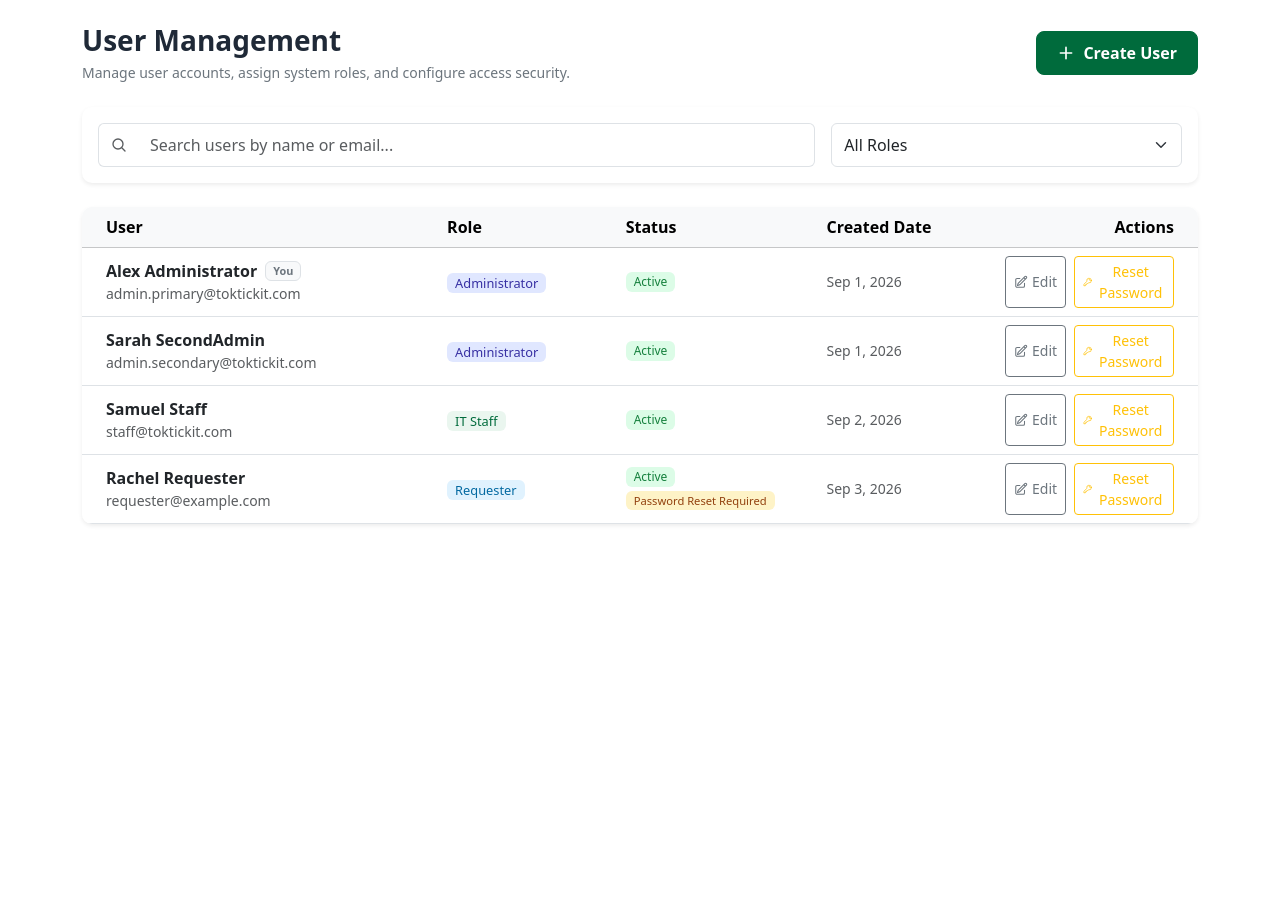
Administrator User Management UI Tests (Lab 3 — Issue 27: UI-26..UI-30) › UI-28: should disable Active toggle and show notice when administrator edits own account
The width and height of the screenshot is (1280, 900).
// Open edit modal on current admin
Click the button "Edit" in the row of "Alex Administrator" at (1036, 282), box x1=1005 y1=256 x2=1066 y2=308
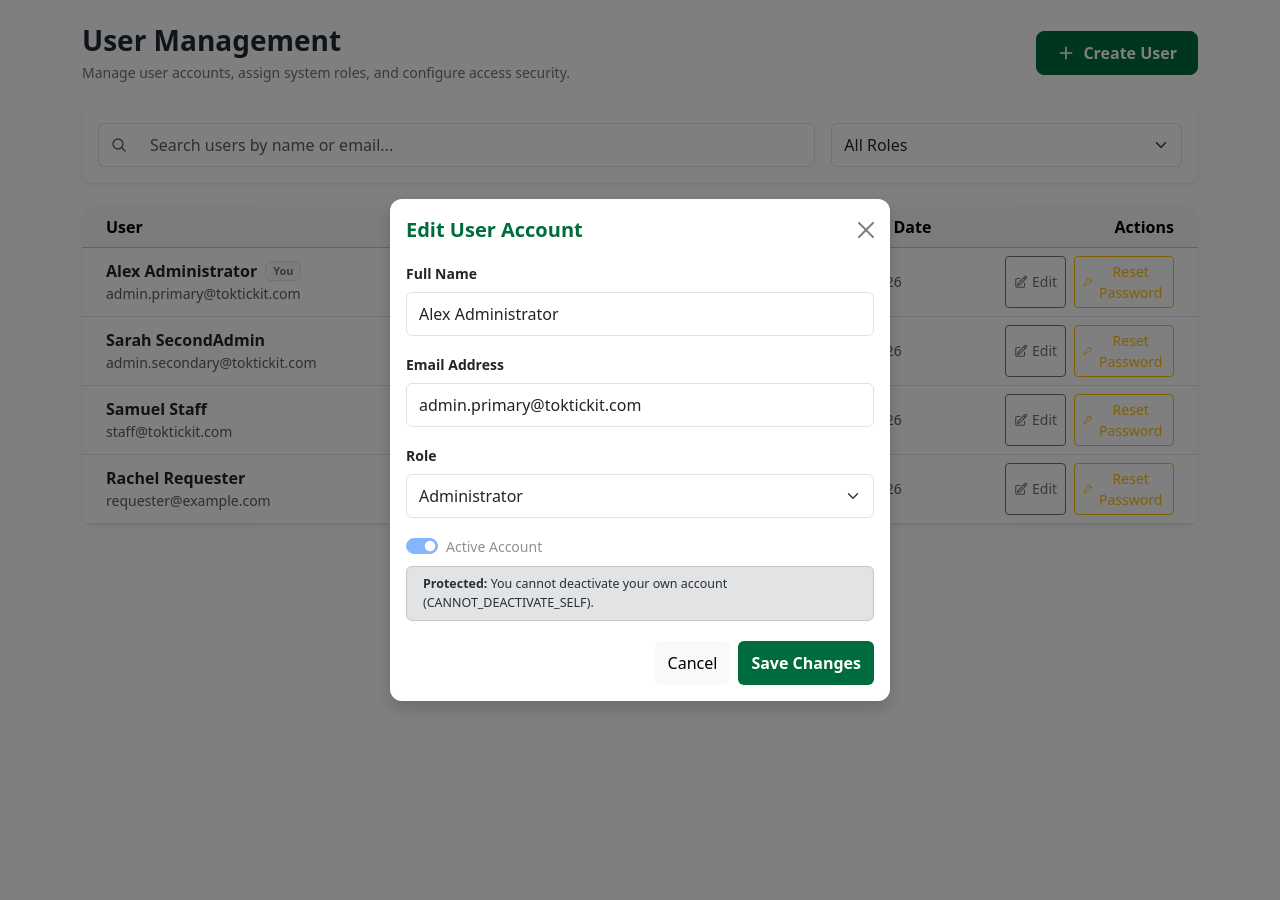
Check: the element with test id "admin-edit-user-modal" is shown
Check: the checkbox with test id "switch-edit-active" is disabled, box x1=406 y1=538 x2=438 y2=554
Check: the element with test id "self-deactivation-notice" is shown, box x1=406 y1=566 x2=874 y2=621
// Close modal
Click the button "Cancel" at (692, 663), box x1=655 y1=641 x2=730 y2=685
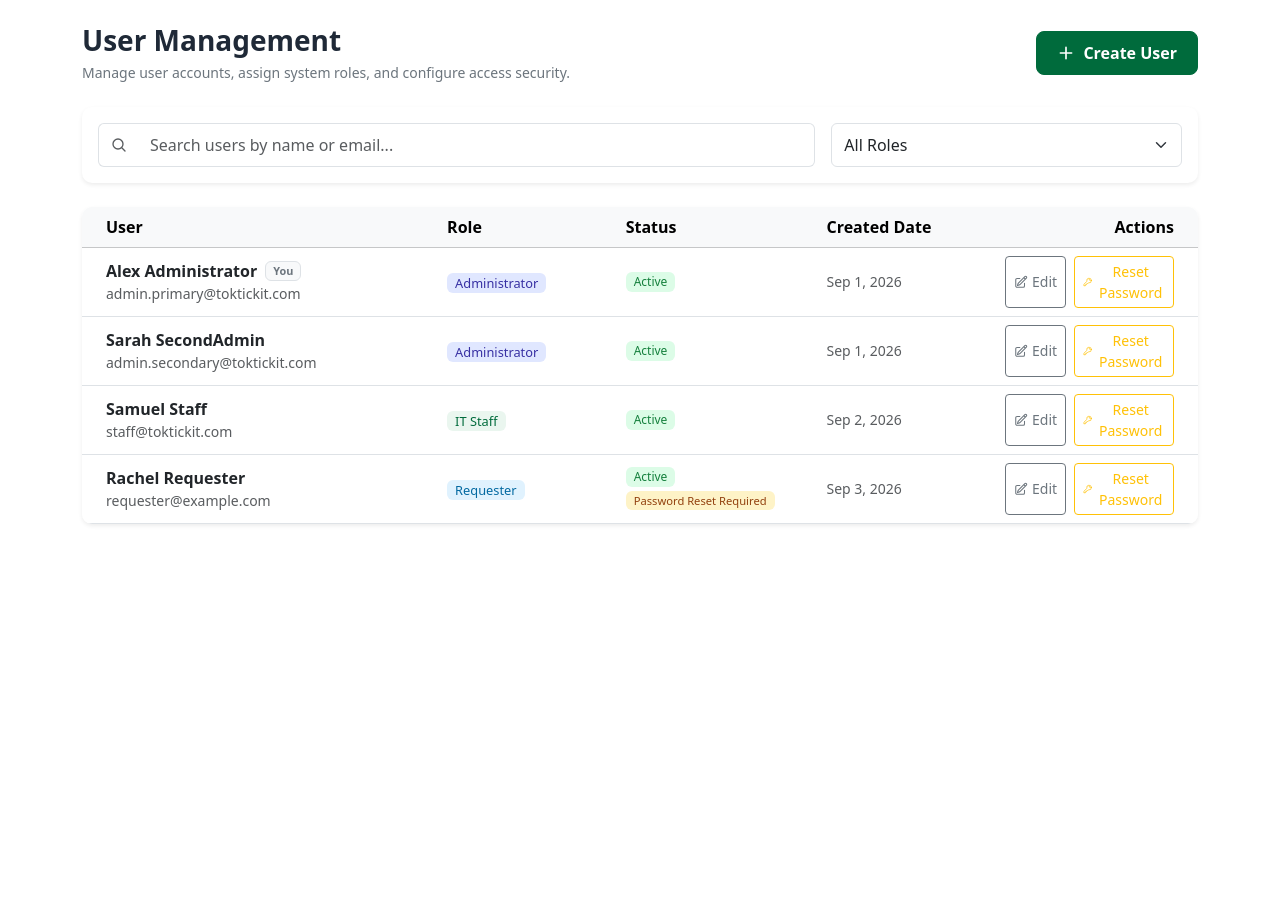
// Editing other non-admin user has active switch enabled
Click the button "Edit" in the row of "Samuel Staff" at (1036, 420), box x1=1005 y1=394 x2=1066 y2=446
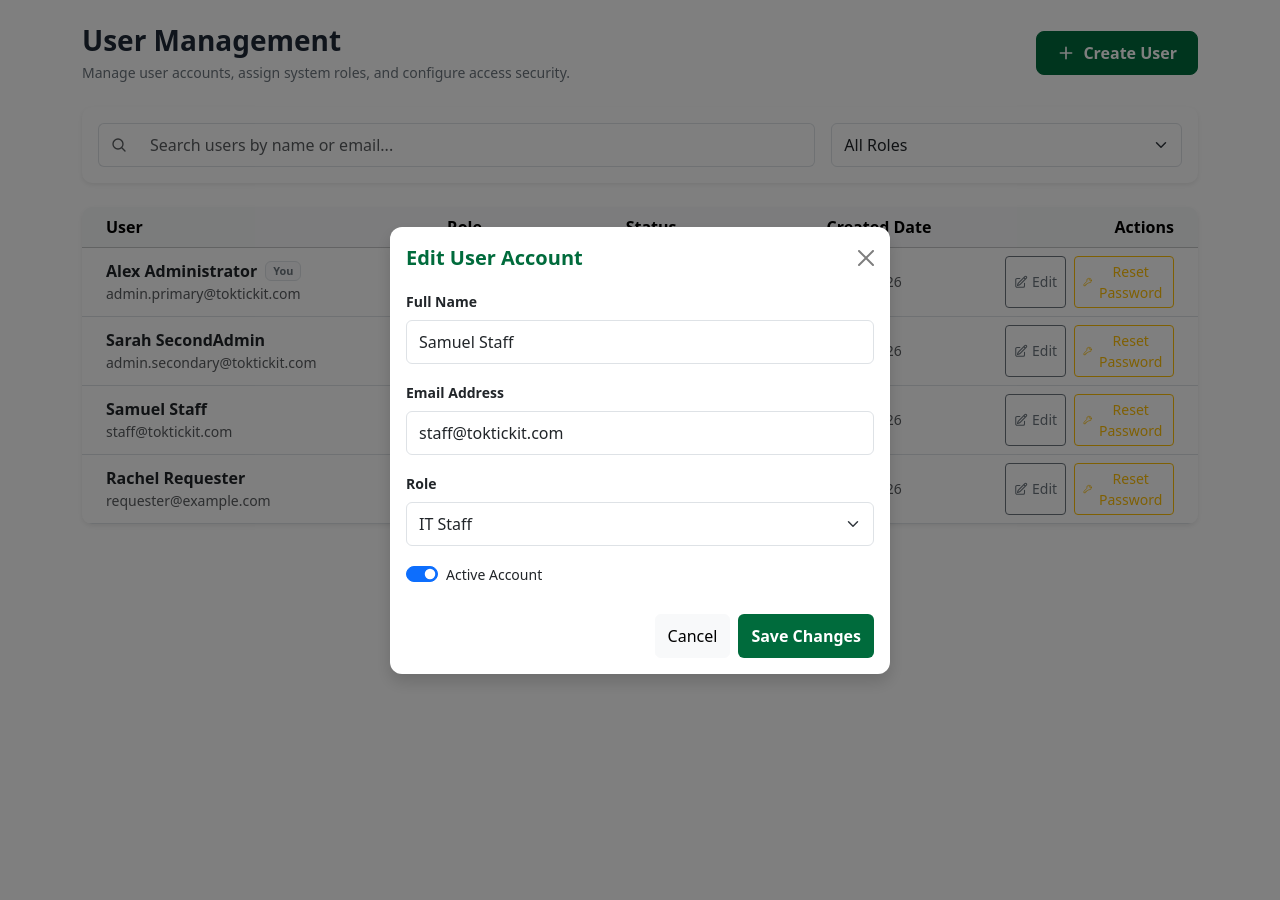
Check: the element with test id "admin-edit-user-modal" is shown
Check: the checkbox with test id "switch-edit-active" is enabled, box x1=406 y1=566 x2=438 y2=582
// Change Name and submit
Replace the text in the field with test id "input-edit-name" with "Samuel Staff Senior" at (640, 342), box x1=406 y1=320 x2=874 y2=364
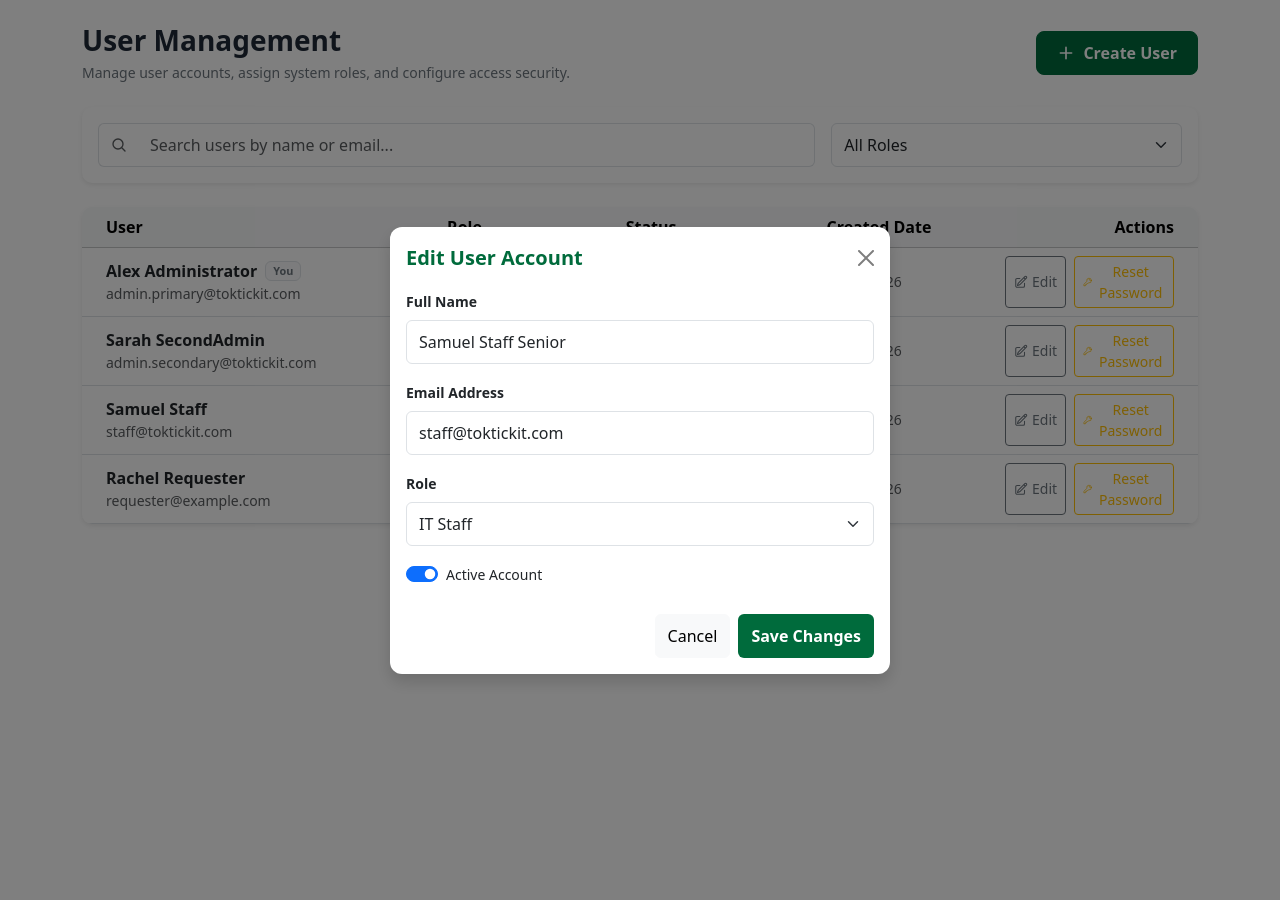
Click the button with test id "btn-submit-edit-user" at (806, 636), box x1=738 y1=614 x2=874 y2=658
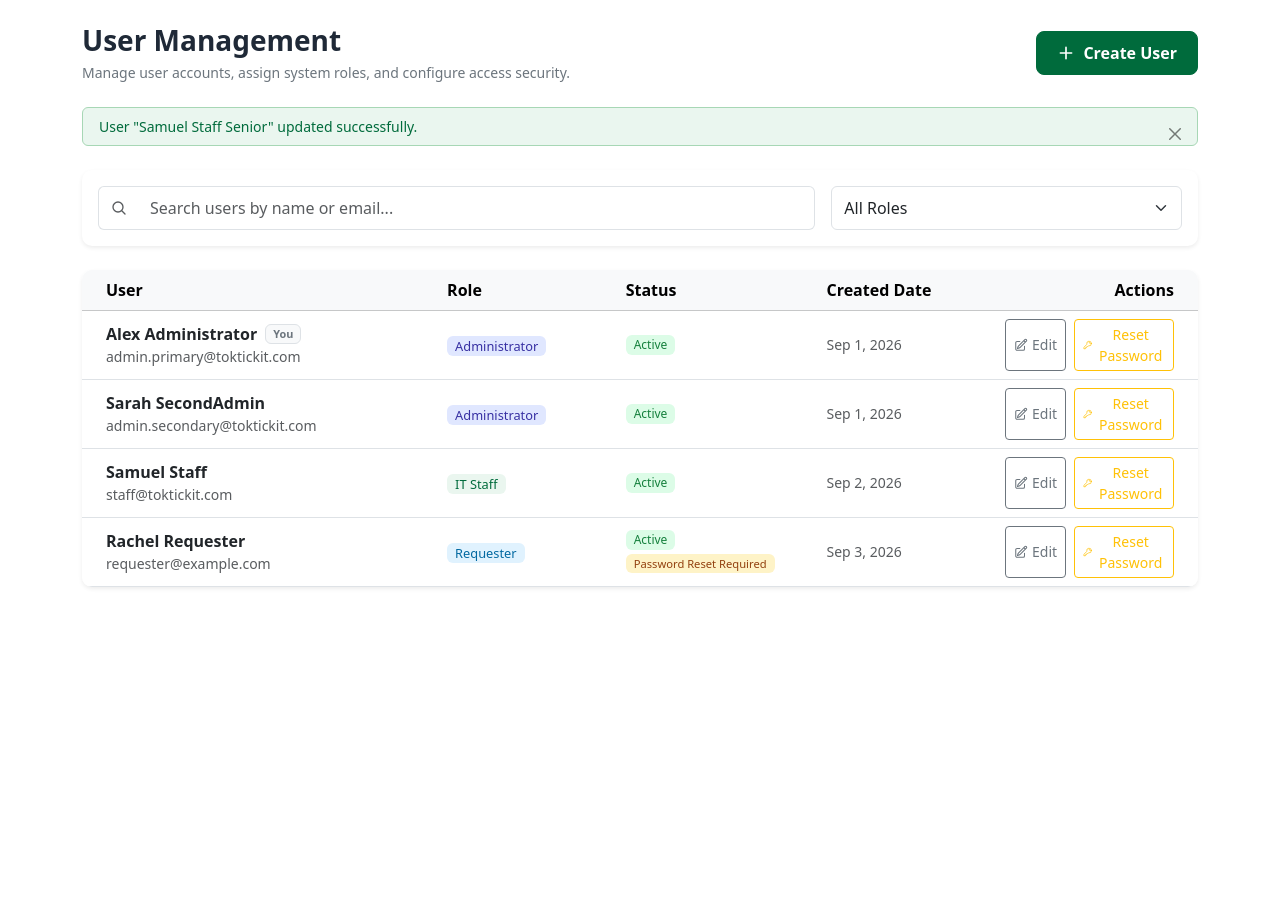
Check: the message "User \"Samuel Staff Senior\" updated successfully." is shown, box x1=82 y1=107 x2=1198 y2=146
